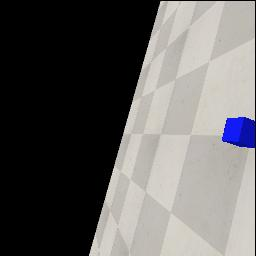box: (222, 117, 255, 148)
